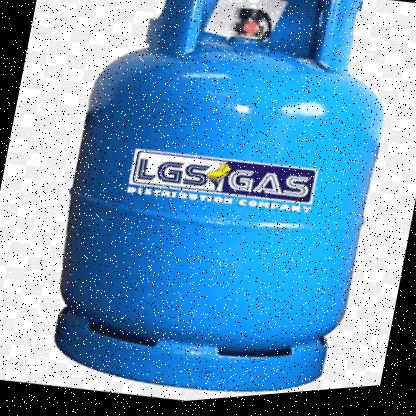gas-tank: (19, 0, 415, 414)
